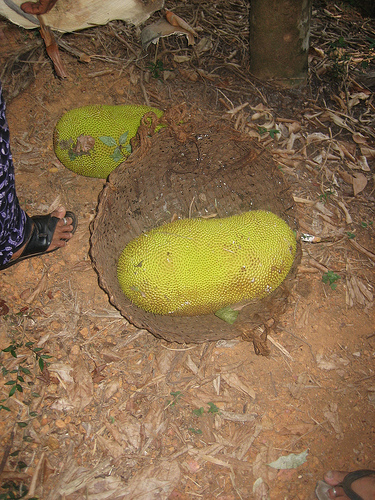jackfruit: (116, 207, 300, 318), (53, 101, 160, 180)
